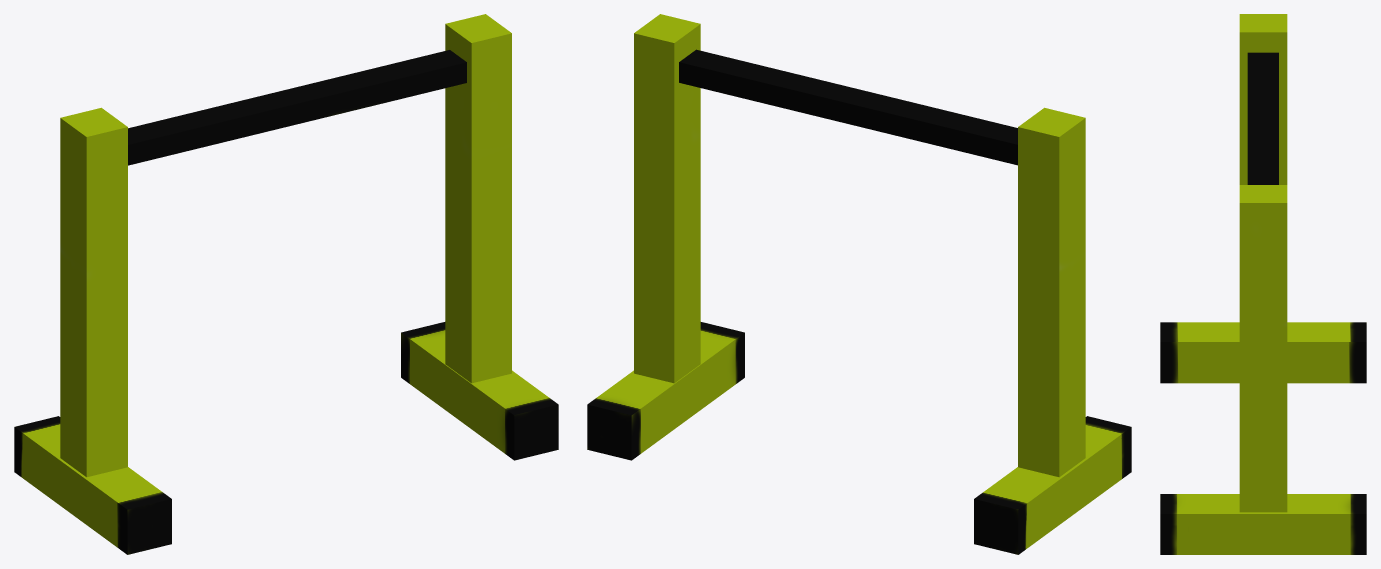
File: textured_props_horizontal_bar_low001.fbx
The picture shows the model from 3 angles, left to right: view 1: azimuth 30°, elevation 25°; view 2: azimuth 150°, elevation 25°; view 3: azimuth 270°, elevation 25°; orthographic projection. The views are drawn at different scales.
Visible parts, largest first — view 1: pasted__pasted__pCube1, pasted__pCube1, pCube2, pasted__pCube3, pCube3; view 2: pasted__pasted__pCube1, pasted__pCube1, pCube2, pasted__pCube3, pCube3; view 3: pasted__pCube1, pCube3, pasted__pCube3, pasted__pasted__pCube1, pCube2.
Part boxes in pixels (box(x1,y1,x2,y2)): pasted__pasted__pCube1: box(60, 107, 127, 477); pasted__pCube1: box(445, 14, 511, 383); pCube2: box(128, 50, 466, 165); pasted__pCube3: box(14, 416, 171, 554); pCube3: box(401, 322, 558, 460); pasted__pasted__pCube1: box(1018, 107, 1085, 477); pasted__pCube1: box(634, 14, 700, 383); pCube2: box(679, 49, 1017, 165); pasted__pCube3: box(974, 416, 1131, 554); pCube3: box(587, 322, 744, 460); pasted__pCube1: box(1239, 185, 1287, 512); pCube3: box(1160, 494, 1366, 554); pasted__pCube3: box(1160, 322, 1366, 383); pasted__pasted__pCube1: box(1239, 14, 1287, 184); pCube2: box(1247, 52, 1278, 184).
Size of the model in its own units: 3.35 by 2.86 by 1.52.
